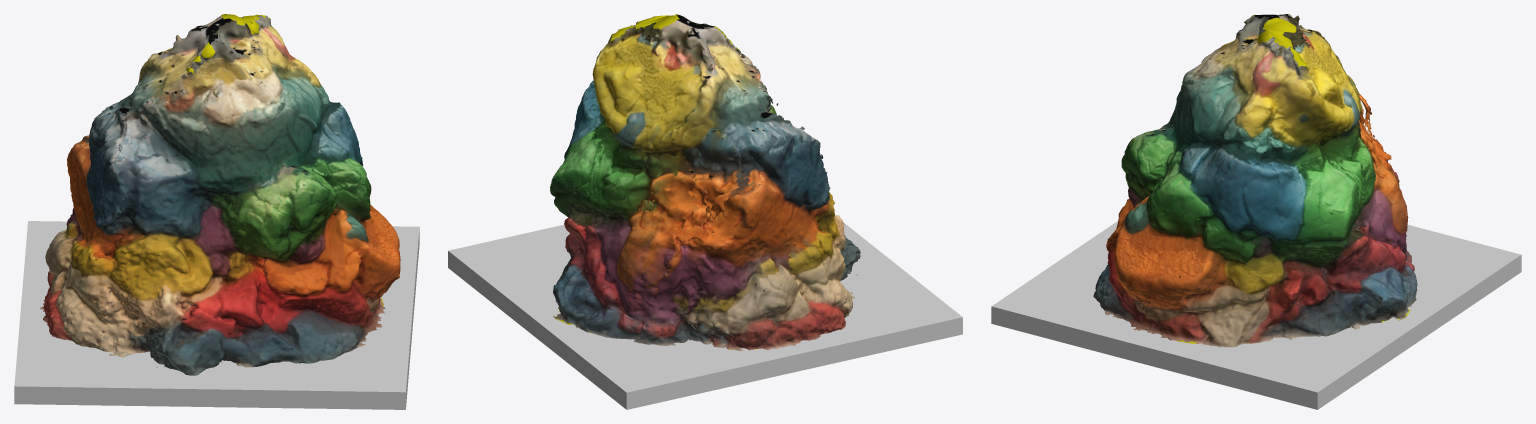
The model's file is play-doh_by_jeff_koons.glb.
3 renders of one model, left to right at view 1: azimuth 30°, elevation 25°; view 2: azimuth 150°, elevation 25°; view 3: azimuth 270°, elevation 25°, orthographic. The views are drawn at different scales.
Visible parts, largest first — view 1: Object_3, Object_2, Object_4; view 2: Object_3, Object_2, Object_4; view 3: Object_3, Object_2, Object_4.
Part boxes in pixels (x1,y1,x2,y2): Object_3: (40,15,400,375); Object_2: (14,221,419,409); Object_4: (186,14,383,305); Object_3: (550,14,860,350); Object_2: (448,223,962,409); Object_4: (553,14,757,349); Object_3: (1093,14,1417,347); Object_2: (991,221,1521,409); Object_4: (1176,15,1410,343).
Size of the model in its own units: 3.35 by 2.02 by 3.35.
3 materials, 1 textured.
